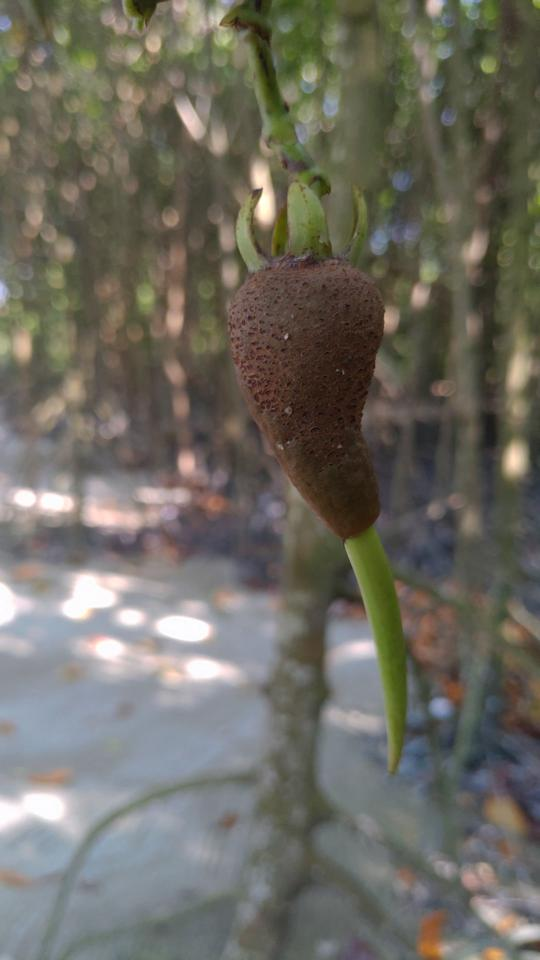mentah: (211, 158, 424, 795)
